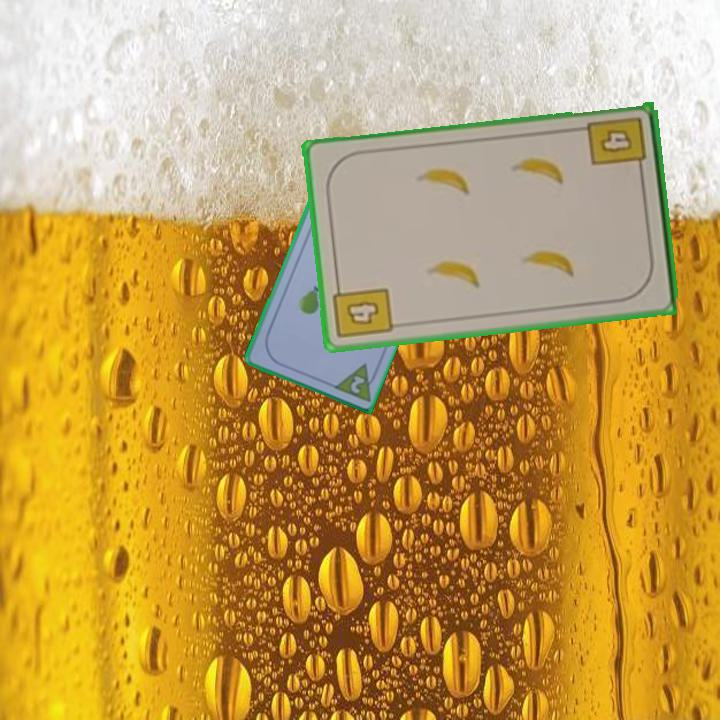2p: (329, 359, 382, 404)
4b: (584, 113, 650, 177), (330, 278, 395, 342)
